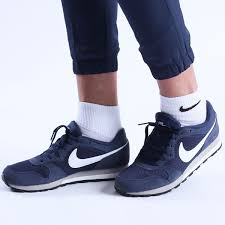nike: (68, 141, 128, 169), (178, 121, 216, 163)
